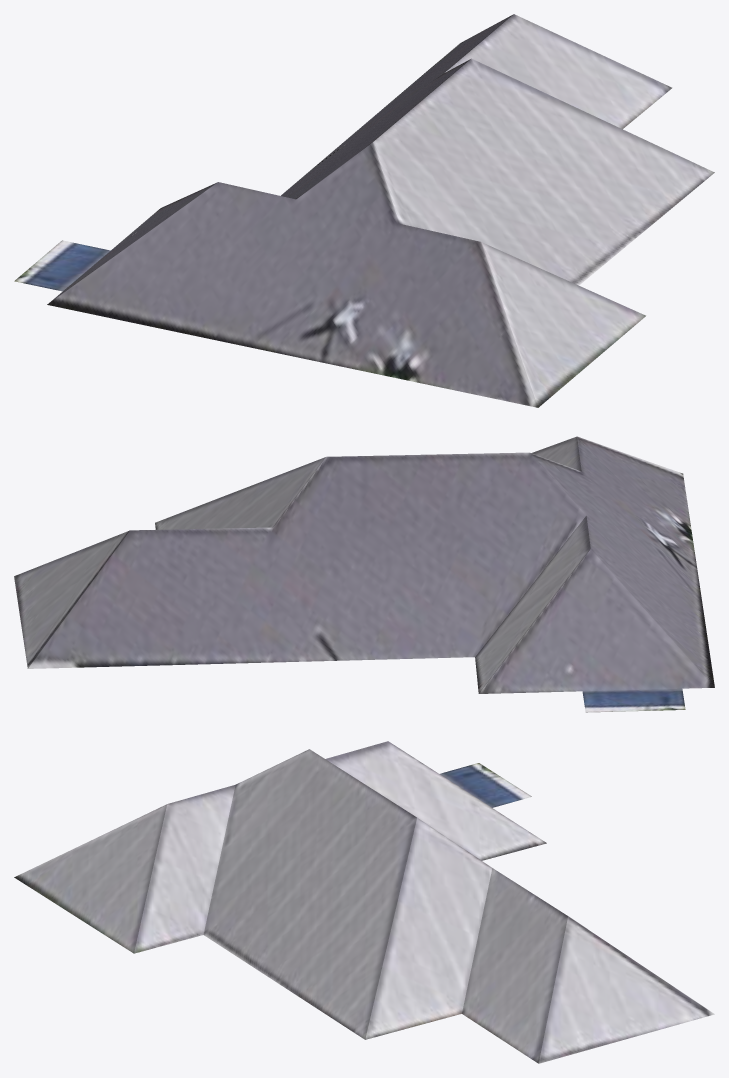
File: BK39_500_014026_0007_roof.obj
3 views of the same model, one above another, from view 1: azimuth 30°, elevation 25°; view 2: azimuth 150°, elevation 25°; view 3: azimuth 270°, elevation 25° (orthographic). The views are drawn at different scales.
Parts seen in each view (by area): view 1: BK39_500_014026_0007_roof; view 2: BK39_500_014026_0007_roof; view 3: BK39_500_014026_0007_roof.
Boxes of the visible parts, x1=… form: BK39_500_014026_0007_roof: x1=14, y1=14, x2=714, y2=407; BK39_500_014026_0007_roof: x1=14, y1=436, x2=714, y2=712; BK39_500_014026_0007_roof: x1=14, y1=741, x2=714, y2=1063.
Bounding box in the file's own units: 350 × 70 × 344.
1 material, 1 textured.
